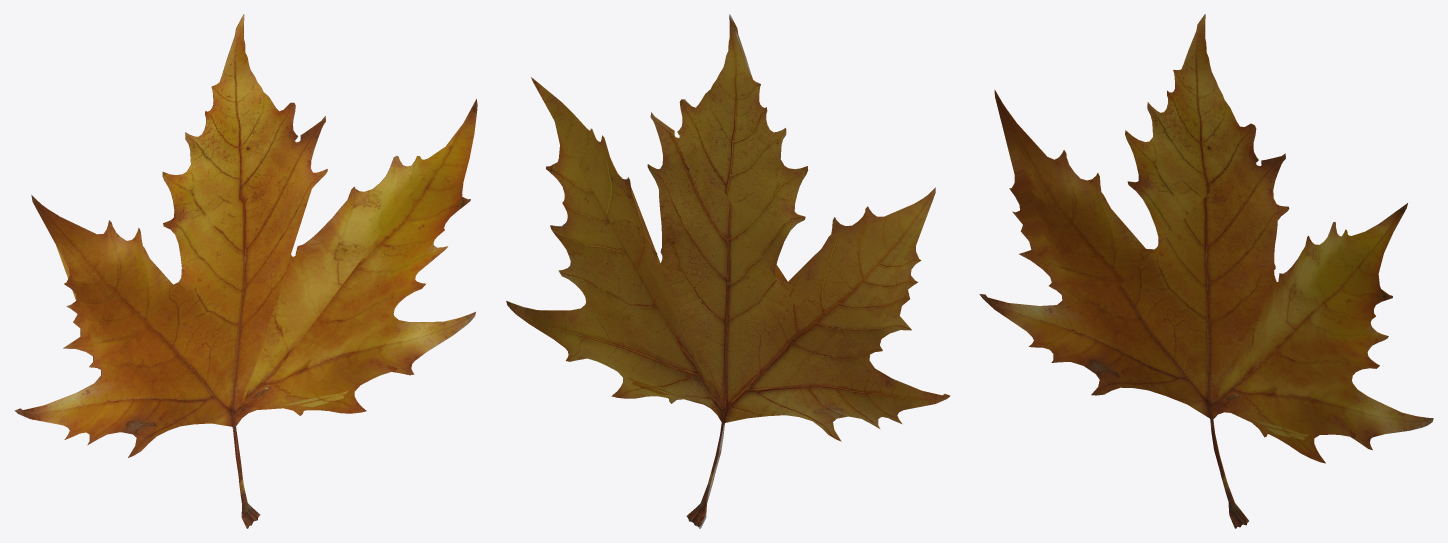
The model's file is leaf.glb.
The picture shows the model from 3 angles, left to right: view 1: azimuth 30°, elevation 25°; view 2: azimuth 150°, elevation 25°; view 3: azimuth 330°, elevation 25°; orthographic projection. The views are drawn at different scales.
Parts seen in each view (by area): view 1: Plane; view 2: Plane; view 3: Plane.
Part boxes in pixels (x1,y1,x2,y2): Plane: [14, 14, 477, 528]; Plane: [506, 14, 950, 528]; Plane: [979, 14, 1433, 528].
Bounding box in the file's own units: 1.86 × 2.04 × 0.255.
3 materials, 2 textured.
